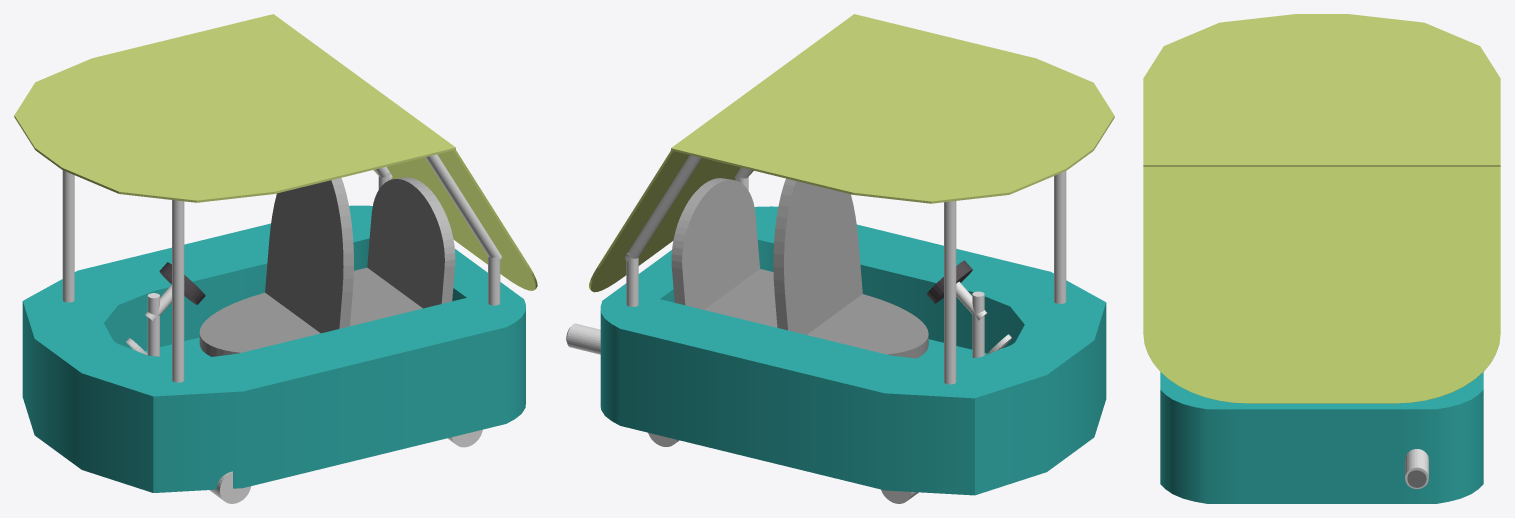
The model's file is Carro 1.fbx.
The picture shows the model from 3 angles, left to right: view 1: azimuth 30°, elevation 25°; view 2: azimuth 150°, elevation 25°; view 3: azimuth 270°, elevation 25°; orthographic projection. The views are drawn at different scales.
Parts seen in each view (by area): view 1: Cube.001, Cube.003, Cube.006, Cube.007, Cube.005, Cube.004, Cylinder.007, Cylinder.006, Cylinder.013, Cylinder.017, Cylinder.014, Cylinder.008; view 2: Cube.001, Cube.003, Cube.006, Cube.007, Cube.005, Cube.004, Cylinder.006, Cylinder.007, Cylinder.010, Cylinder.005, Cylinder.017, Cylinder.009; view 3: Cube.004, Cube.003, Cube.001, Cylinder.005.
Part boxes in pixels (box(x1,y1,x2,y2)): Cube.001: box(22, 205, 525, 492); Cube.003: box(14, 14, 455, 202); Cube.006: box(265, 177, 353, 333); Cube.007: box(367, 177, 455, 308); Cube.005: box(199, 267, 422, 356); Cube.004: box(373, 150, 537, 290); Cylinder.007: box(172, 200, 184, 382); Cylinder.006: box(62, 170, 74, 302); Cylinder.013: box(425, 154, 501, 260); Cylinder.017: box(147, 293, 159, 356); Cylinder.014: box(209, 471, 250, 503); Cylinder.008: box(488, 255, 500, 305); Cube.001: box(600, 206, 1106, 495); Cube.003: box(671, 14, 1114, 203); Cube.006: box(773, 178, 862, 334); Cube.007: box(671, 178, 759, 309); Cube.005: box(704, 269, 928, 358); Cube.004: box(589, 150, 753, 292); Cylinder.006: box(944, 201, 956, 384); Cylinder.007: box(1054, 171, 1066, 303); Cylinder.010: box(624, 155, 701, 261); Cylinder.005: box(567, 323, 600, 354); Cylinder.017: box(972, 291, 984, 357); Cylinder.009: box(626, 253, 638, 306); Cube.004: box(1143, 167, 1500, 403); Cube.003: box(1143, 14, 1500, 166); Cube.001: box(1160, 372, 1483, 503); Cylinder.005: box(1405, 449, 1428, 488).
Size of the model in its own units: 435 by 283 by 300.
